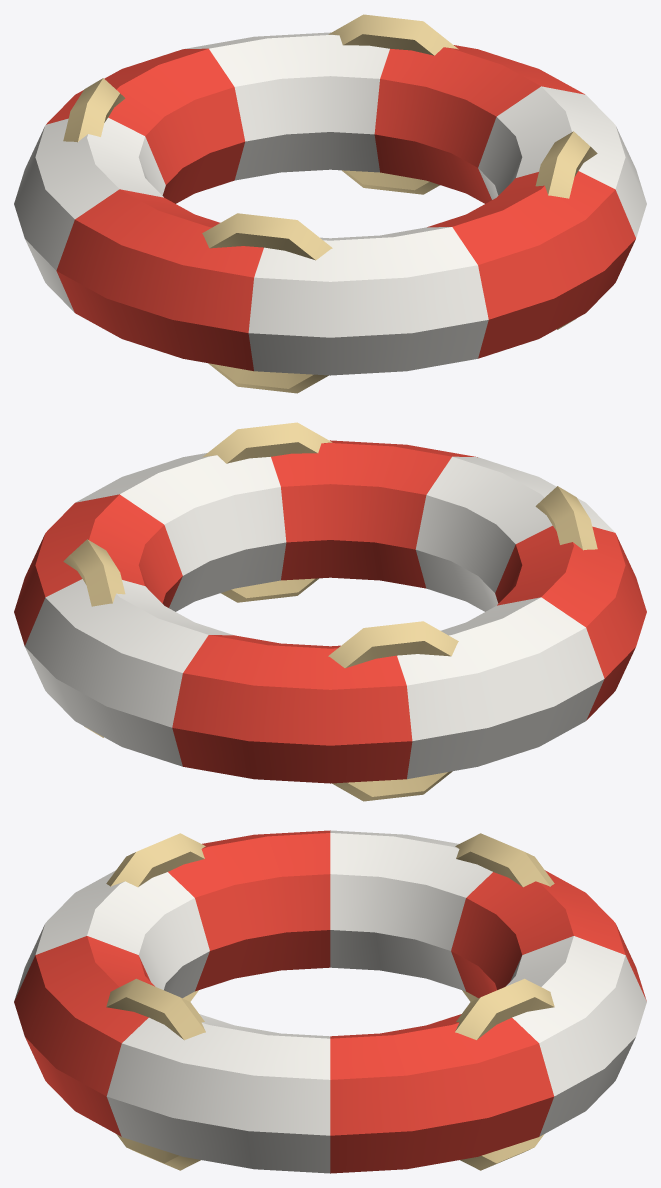
Rendered from lifering.fbx.
3 views of the same model, one above another, from view 1: azimuth 30°, elevation 25°; view 2: azimuth 150°, elevation 25°; view 3: azimuth 270°, elevation 25° (orthographic).
Parts seen in each view (by area): view 1: lifering; view 2: lifering; view 3: lifering.
Part boxes in pixels (<box>): lifering: <box>14,14,646,393</box>; lifering: <box>14,422,646,801</box>; lifering: <box>14,830,646,1173</box>.
Size of the model in its own units: 0.39 by 0.1179 by 0.39.
